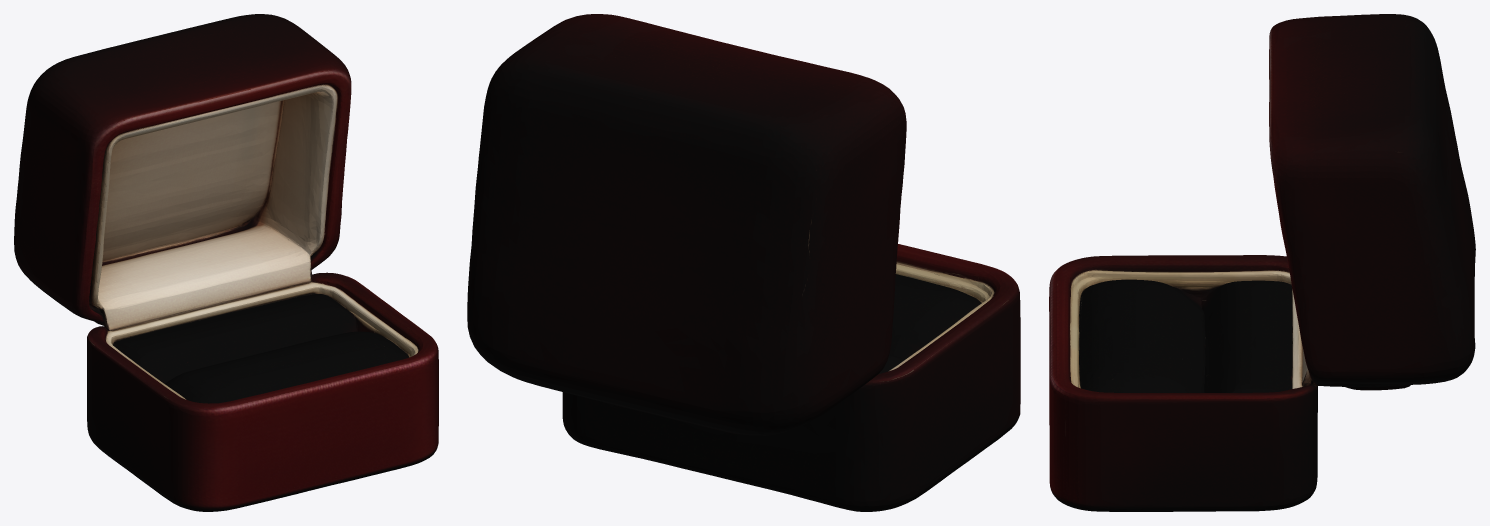
Rendered from red_box.glb.
The picture shows the model from 3 angles, left to right: view 1: azimuth 30°, elevation 25°; view 2: azimuth 150°, elevation 25°; view 3: azimuth 270°, elevation 25°; orthographic projection. The views are drawn at different scales.
Visible parts, largest first — view 1: world; view 2: world; view 3: world.
Boxes of the visible parts, x1,y1,x2,y2 form: world: (14, 14, 438, 511); world: (467, 14, 1020, 511); world: (1049, 14, 1475, 511).
Size of the model in its own units: 0.8048 by 0.96 by 0.9958.
Materials: 1 (1 with a texture image).
